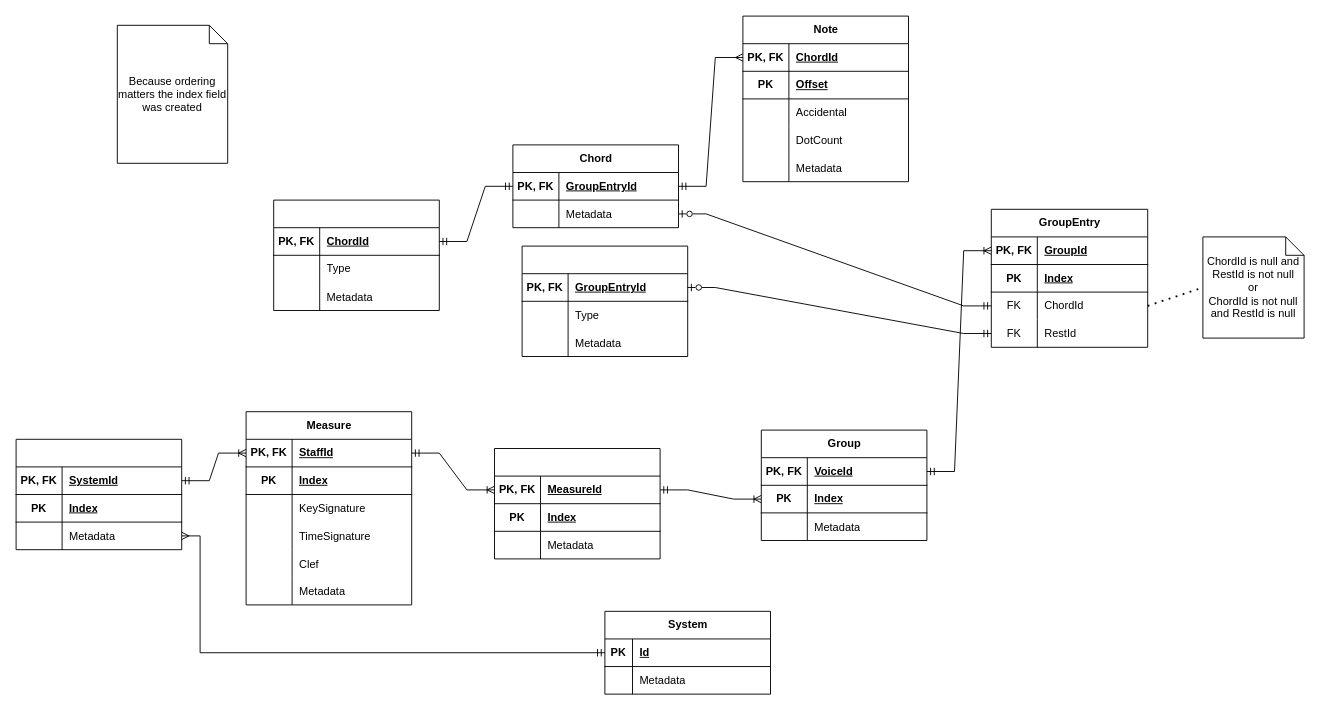
The diagram is 1320 pixels wide and 710 high, and some of its shapes have lost their labels. Here are the shapes that lost their labels. From the top down, the box of each, then its label:
(273, 199, 439, 310): Stem
(521, 245, 688, 356): Rest
(15, 438, 182, 550): Staff
(494, 448, 660, 559): Voice
